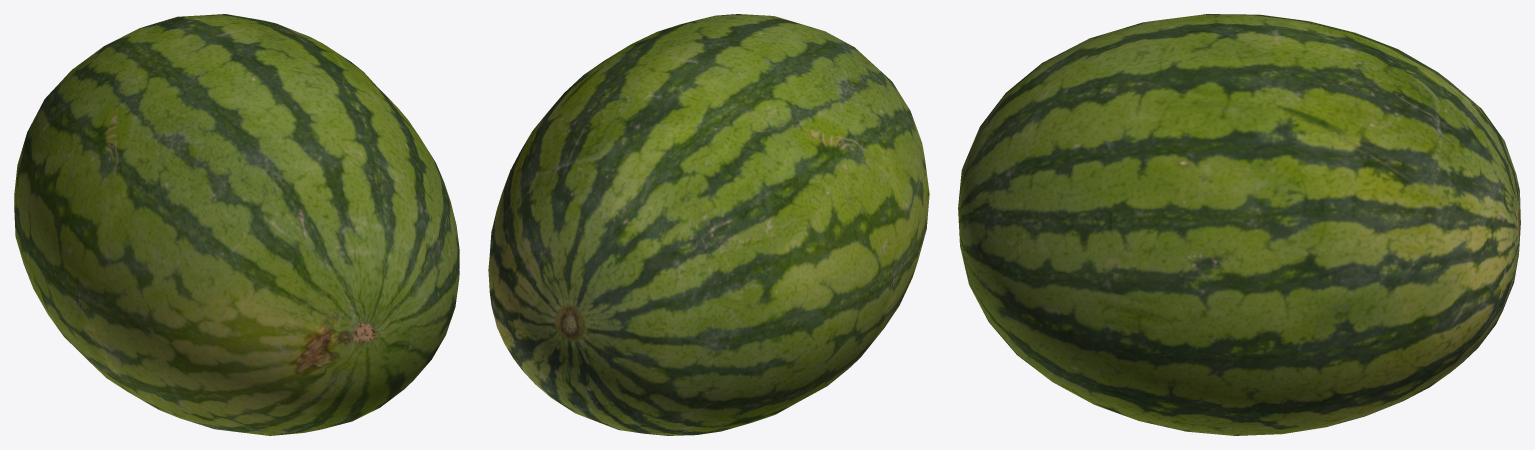
File: Watermelon.fbx
3 renders of one model, left to right at view 1: azimuth 30°, elevation 25°; view 2: azimuth 150°, elevation 25°; view 3: azimuth 270°, elevation 25°, orthographic. The views are drawn at different scales.
Parts seen in each view (by area): view 1: Watermelon; view 2: Watermelon; view 3: Watermelon.
Boxes of the visible parts, x1,y1,x2,y2 form: Watermelon: [14, 14, 459, 435]; Watermelon: [488, 14, 929, 435]; Watermelon: [958, 14, 1520, 435].
Bounding box in the file's own units: 19.73 × 19.68 × 26.37.
